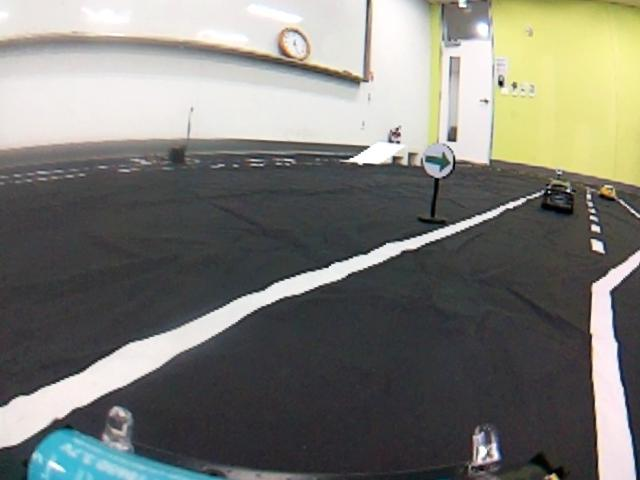car: (536, 169, 581, 216), (594, 179, 619, 204)
right: (4, 270, 640, 479)
sign_right: (415, 133, 457, 182)
